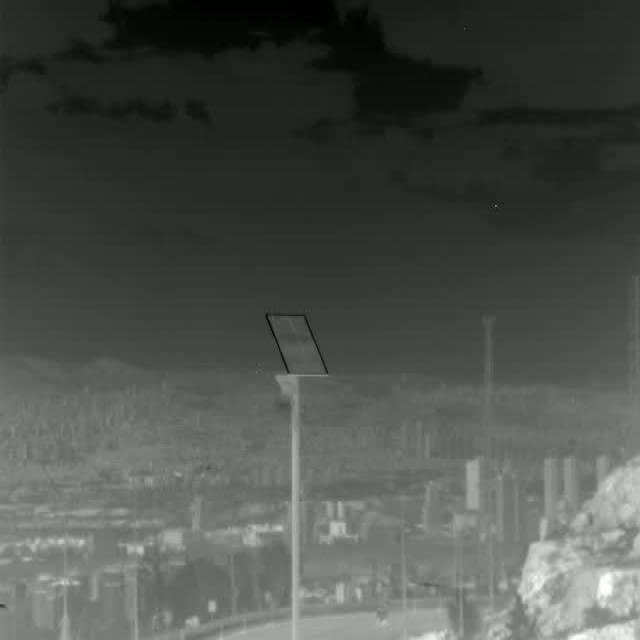Motorcycle: (374, 600, 390, 624)
